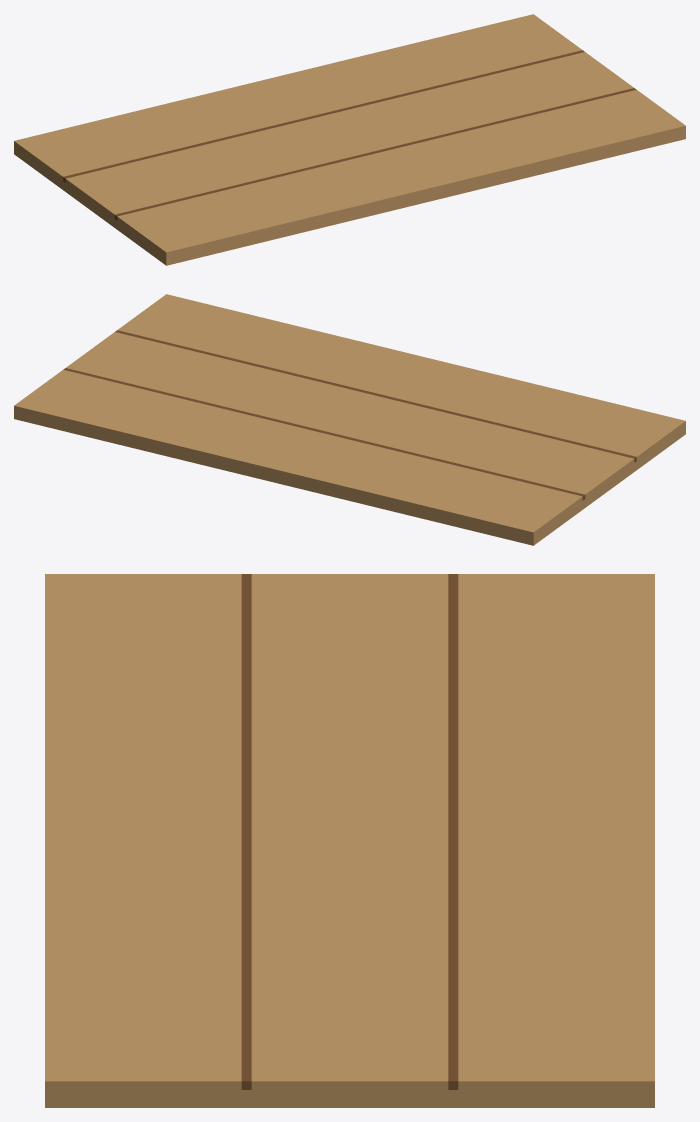
The model's file is wood_panel.glb.
3 renders of one model, top to bottom at view 1: azimuth 30°, elevation 25°; view 2: azimuth 150°, elevation 25°; view 3: azimuth 270°, elevation 25°, orthographic. The views are drawn at different scales.
Parts seen in each view (by area): view 1: wood_panel:compound; view 2: wood_panel:compound; view 3: wood_panel:compound.
Boxes of the visible parts, x1=… form: wood_panel:compound: x1=14, y1=14, x2=685, y2=265; wood_panel:compound: x1=14, y1=294, x2=685, y2=545; wood_panel:compound: x1=45, y1=574, x2=654, y2=1107.
Size of the model in its own units: 1.22 by 0.03 by 0.62.
